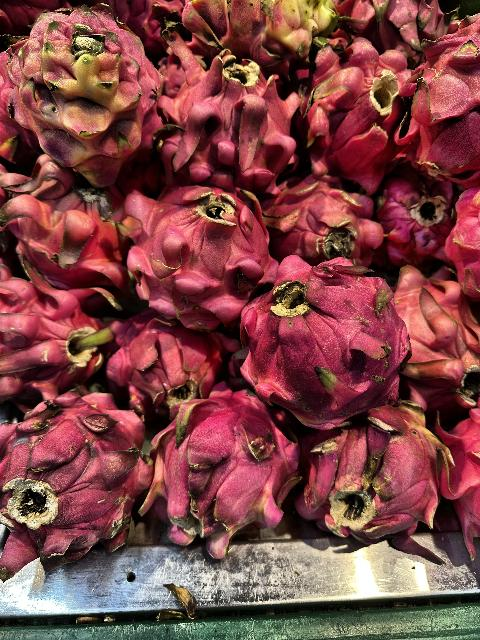buah-naga-belum-matang: (5, 9, 167, 181), (386, 258, 480, 412), (180, 1, 342, 64)
buah-naga-matang: (242, 253, 400, 422), (0, 393, 146, 569), (154, 386, 292, 550), (109, 175, 273, 312), (309, 390, 443, 550), (162, 58, 292, 192), (0, 258, 110, 398), (8, 182, 128, 310), (300, 43, 408, 181), (102, 298, 224, 404), (410, 29, 480, 179), (267, 170, 377, 264)
